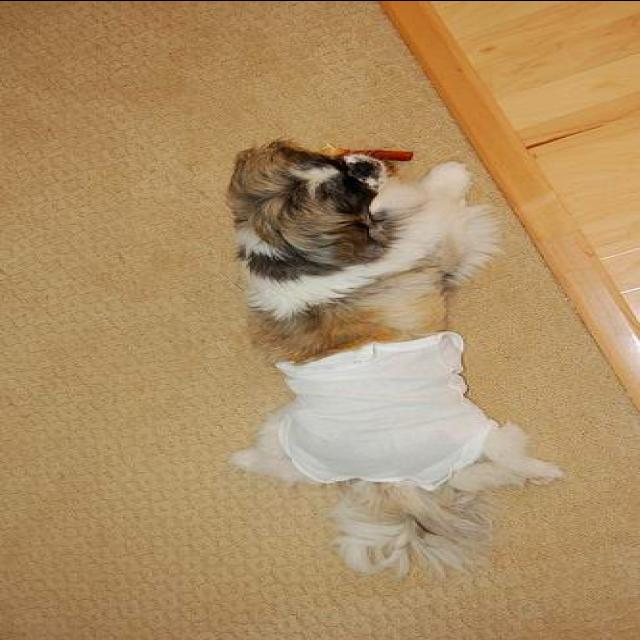pekinese: (217, 127, 575, 588)
